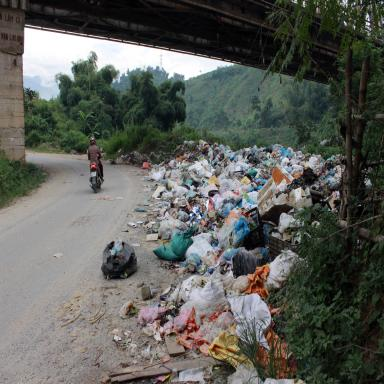plasticbag: (139, 131, 384, 384), (100, 239, 138, 281), (264, 249, 302, 284), (157, 212, 174, 242)
